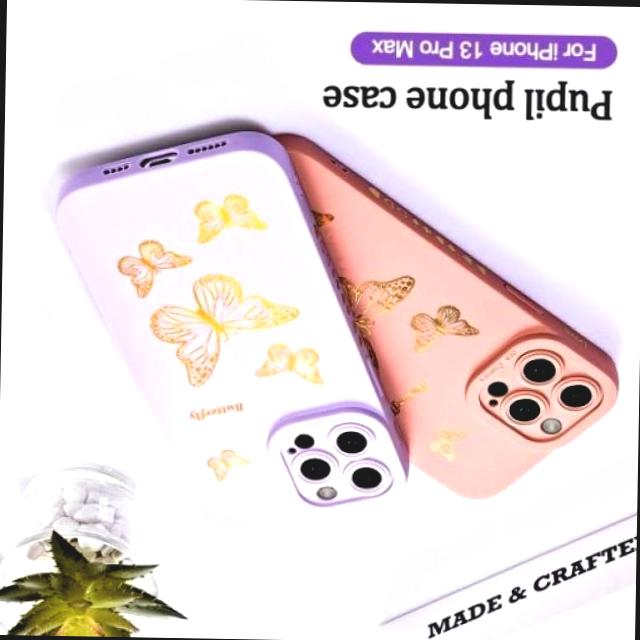lens_back: (342, 456, 390, 496), (552, 376, 600, 416), (499, 388, 548, 426), (512, 351, 562, 388), (290, 447, 338, 485), (327, 422, 375, 458)
phone: (44, 138, 412, 532), (301, 187, 640, 564)
